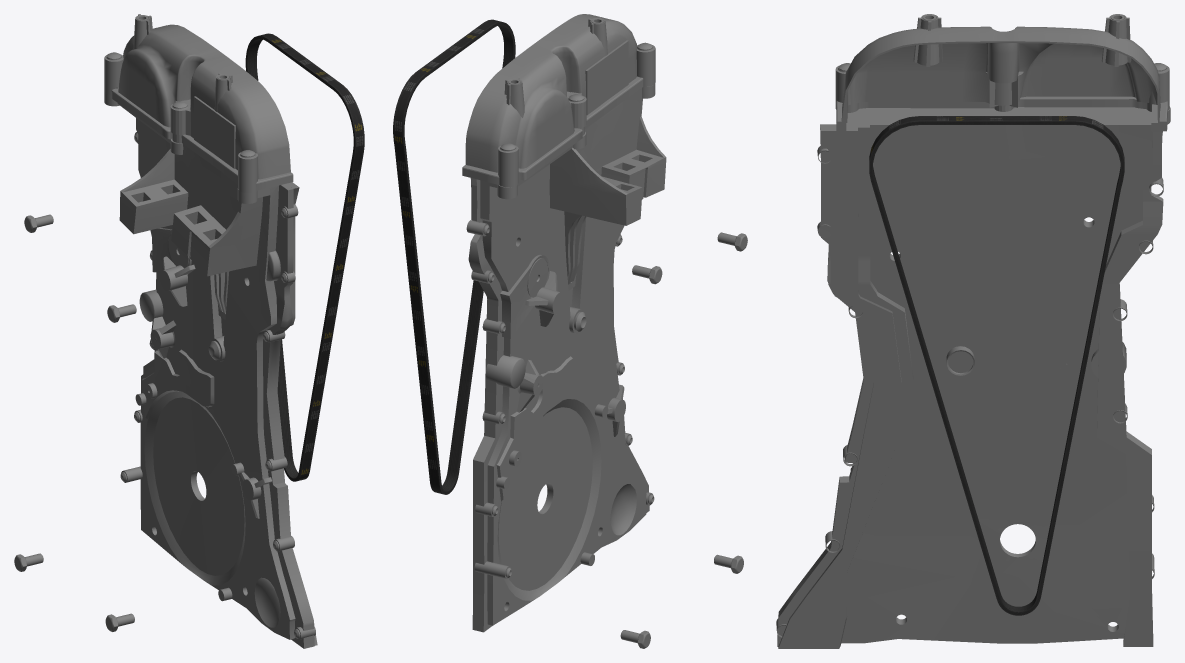
Rendered from timingBeltCover.glb.
3 views of the same model, side by side, from view 1: azimuth 30°, elevation 25°; view 2: azimuth 150°, elevation 25°; view 3: azimuth 270°, elevation 25° (orthographic). The views are drawn at different scales.
Visible parts, largest first — view 1: r4_oslona(0), r4_pasek3(0); view 2: r4_oslona(0), r4_pasek3(0); view 3: r4_oslona(0), r4_pasek3(0).
Part boxes in pixels (bbox=[...]): r4_oslona(0): bbox=[104, 14, 317, 648]; r4_pasek3(0): bbox=[245, 33, 364, 481]; r4_oslona(0): bbox=[462, 14, 666, 632]; r4_pasek3(0): bbox=[393, 19, 515, 494]; r4_oslona(0): bbox=[776, 14, 1170, 648]; r4_pasek3(0): bbox=[869, 116, 1124, 615].
Bounding box in the file's own units: 0.00514 × 0.0107 × 0.00621.
2 materials, 1 textured.
